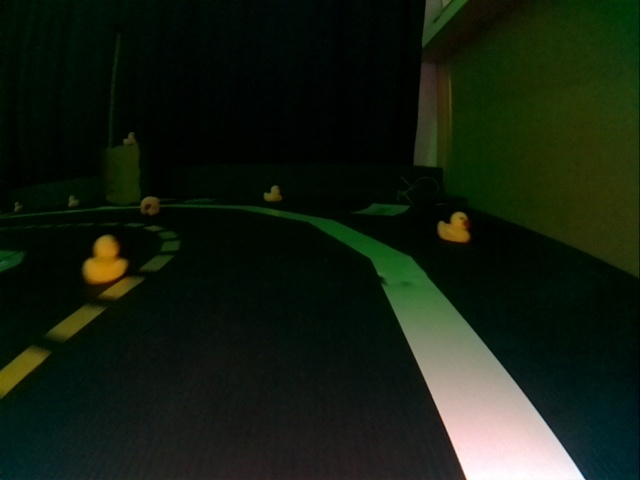Duckie: (82, 236, 128, 283), (437, 211, 470, 243), (140, 197, 160, 215), (264, 185, 282, 202), (123, 132, 136, 144), (68, 195, 79, 207), (14, 202, 23, 212)
